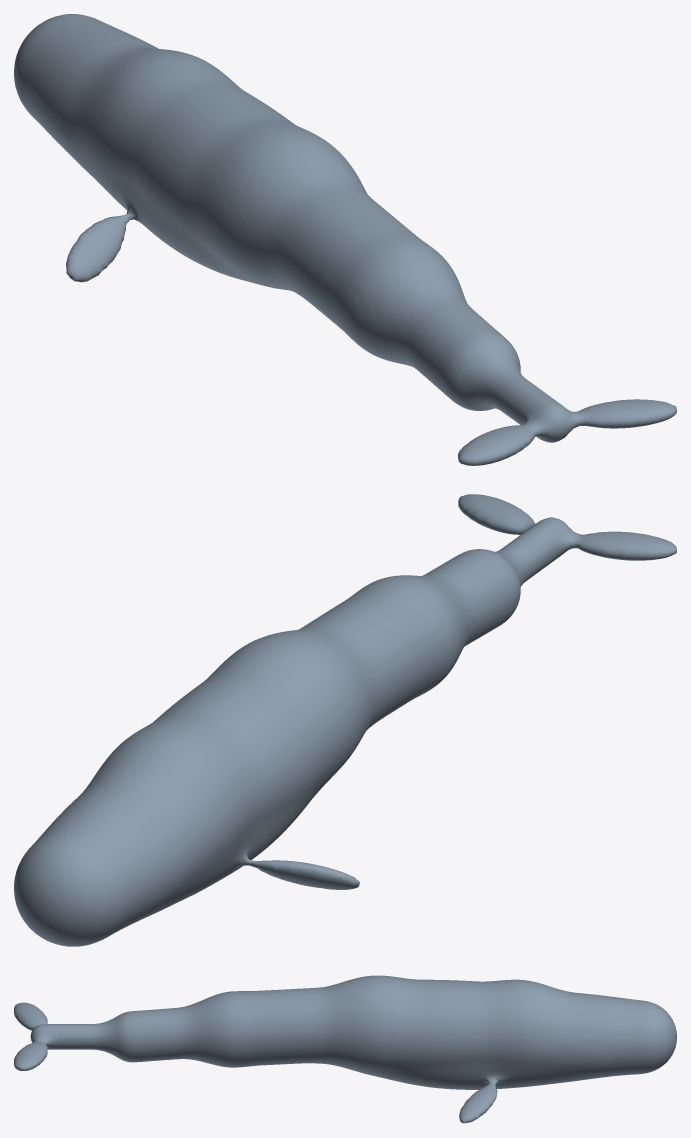
Rendered from whale.glb.
The picture shows the model from 3 angles, top to bottom: view 1: azimuth 30°, elevation 25°; view 2: azimuth 150°, elevation 25°; view 3: azimuth 270°, elevation 25°; orthographic projection. The views are drawn at different scales.
Visible parts, largest first — view 1: Whale; view 2: Whale; view 3: Whale.
Boxes of the visible parts, left/top/right/bottom form: Whale: left=14, top=14, right=676, bottom=465; Whale: left=14, top=494, right=676, bottom=946; Whale: left=14, top=975, right=676, bottom=1123.
Bounding box in the file's own units: 5.19 × 2.85 × 16.31.
